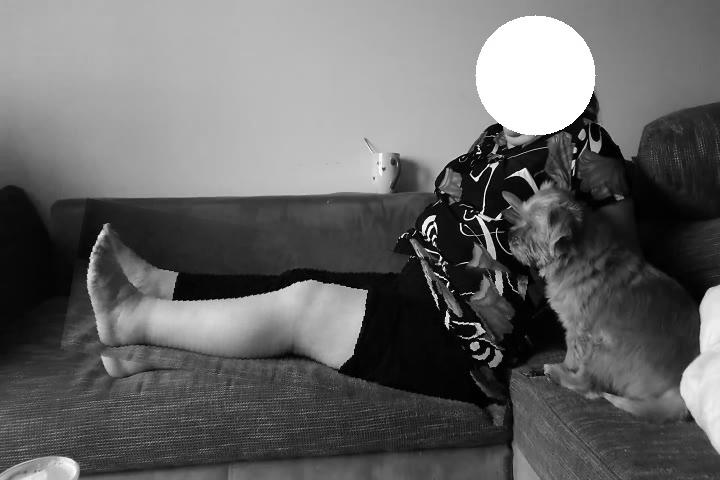lowerbody: (66, 218, 525, 409)
